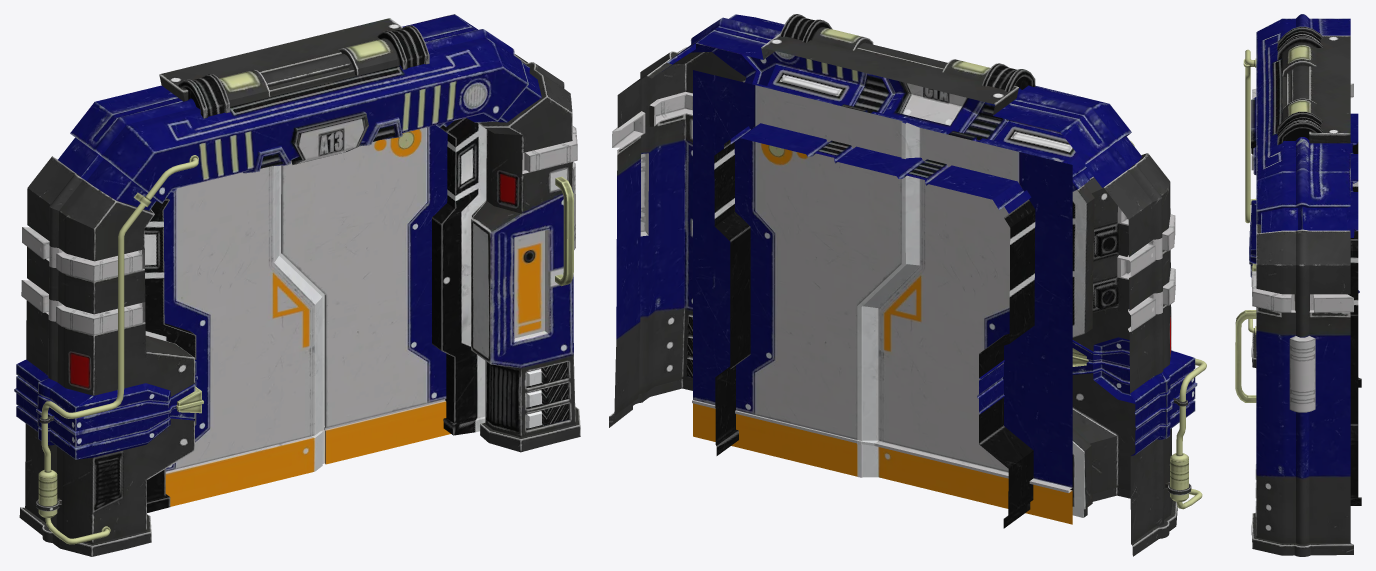
Rendered from keeper-door.glb.
3 views of the same model, side by side, from view 1: azimuth 30°, elevation 25°; view 2: azimuth 150°, elevation 25°; view 3: azimuth 270°, elevation 25° (orthographic). The views are drawn at different scales.
Visible parts, largest first — view 1: door_003_01_-_Default_0; view 2: door_003_01_-_Default_0; view 3: door_003_01_-_Default_0.
Boxes of the visible parts, x1,y1,x2,y2 form: door_003_01_-_Default_0: [14, 14, 580, 556]; door_003_01_-_Default_0: [609, 14, 1206, 556]; door_003_01_-_Default_0: [1235, 14, 1361, 556].
Size of the model in its own units: 27.78 by 20.86 by 6.41.
1 material, 1 textured.
